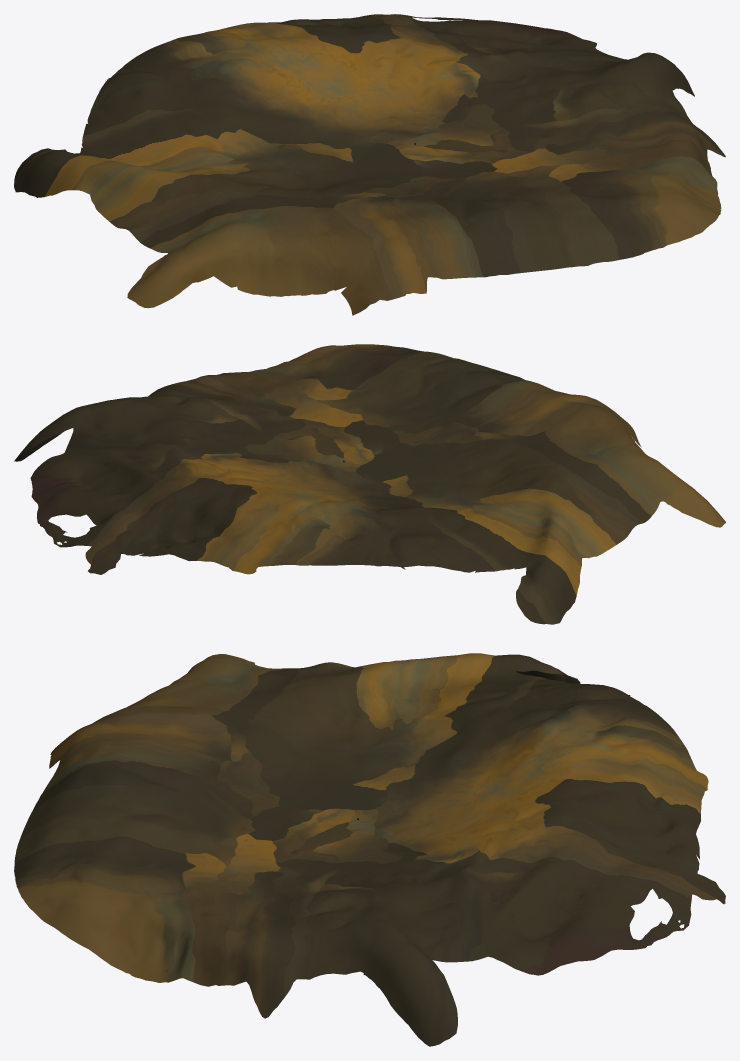
Rendered from FieldEnvironment.fbx.
3 views of the same model, one above another, from view 1: azimuth 30°, elevation 25°; view 2: azimuth 150°, elevation 25°; view 3: azimuth 270°, elevation 25° (orthographic). The views are drawn at different scales.
Parts seen in each view (by area): view 1: environmentGround; view 2: environmentGround; view 3: environmentGround.
Part boxes in pixels (left/top/right/bottom): environmentGround: left=14, top=14, right=725, bottom=315; environmentGround: left=14, top=344, right=725, bottom=624; environmentGround: left=14, top=653, right=725, bottom=1046.
Size of what is drawn, in the model's own units: 6133 by 824 by 5168.
